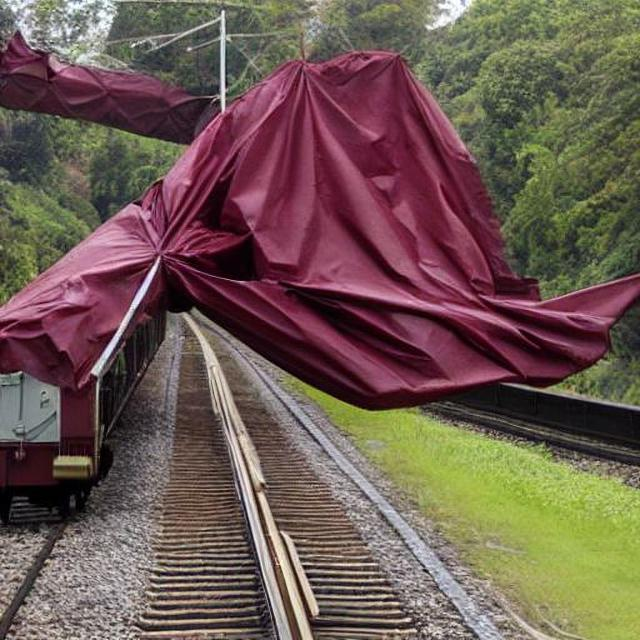floating object: (11, 43, 612, 449)
